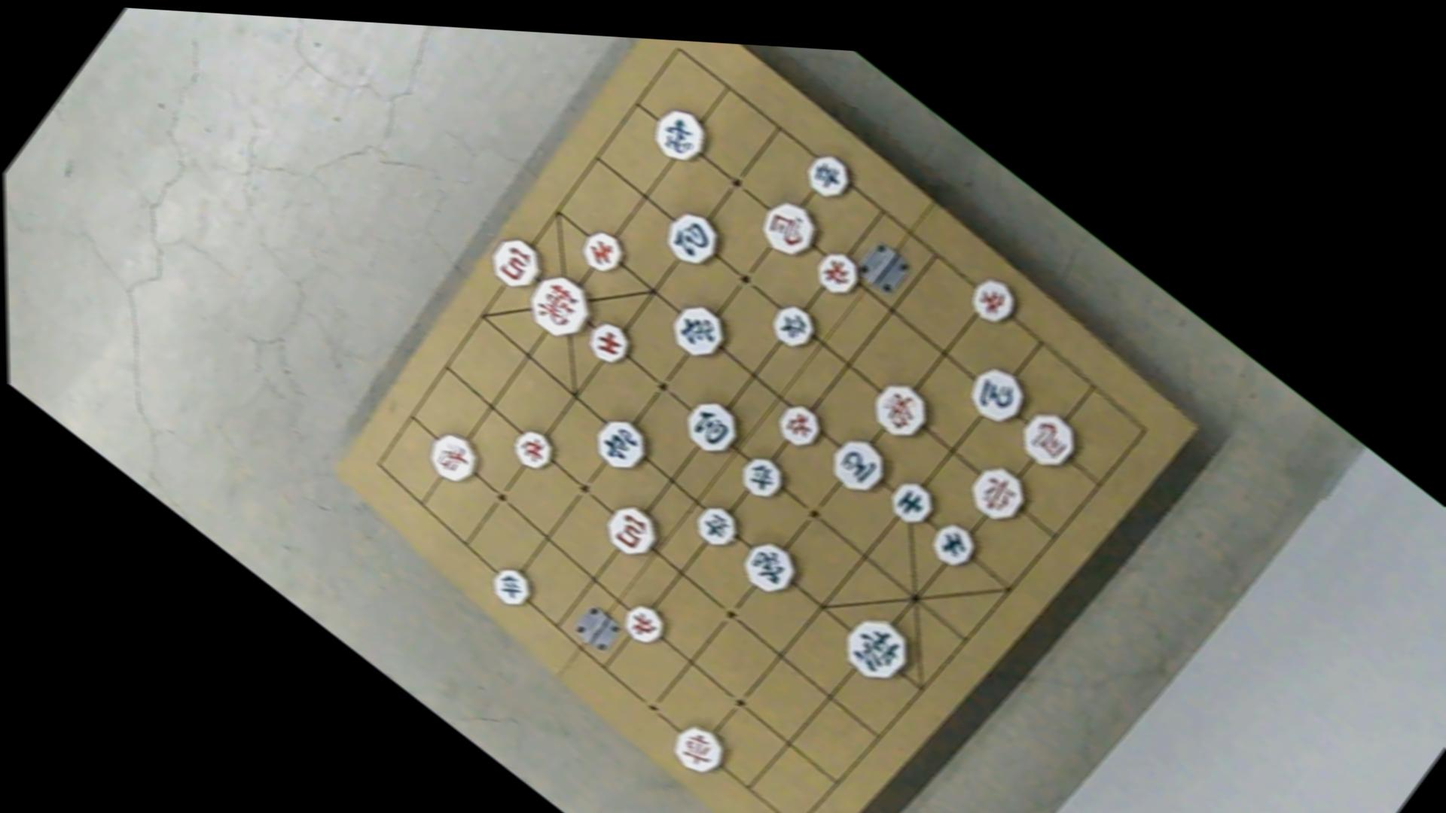cha_green: (665, 297, 734, 367), (588, 407, 657, 477)
cha_red: (964, 458, 1036, 530), (667, 715, 735, 783)
jol_green: (801, 147, 859, 206), (764, 296, 821, 353), (689, 497, 746, 553), (734, 449, 790, 504), (487, 561, 538, 613)
jol_red: (962, 269, 1020, 329), (809, 245, 866, 303), (768, 396, 825, 453), (616, 595, 670, 650), (508, 422, 560, 475)
ma_green: (962, 357, 1034, 431), (821, 427, 893, 501)
ma_red: (1011, 400, 1084, 474), (754, 190, 826, 263)
po_green: (679, 391, 749, 463), (657, 201, 726, 272)
po_red: (480, 226, 548, 295), (596, 495, 664, 562)
sa_green: (883, 474, 941, 532), (926, 515, 984, 572)
sa_red: (583, 313, 639, 370), (575, 223, 630, 279)
sang_green: (645, 99, 715, 171), (735, 531, 804, 601)
sang_red: (866, 372, 939, 445), (422, 422, 487, 488)
wang_green: (834, 605, 917, 691)
wang_red: (517, 260, 599, 346)
